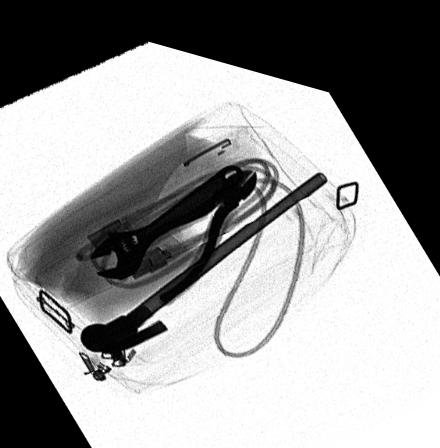Hammer: (81, 152, 329, 347)
Pliers: (107, 157, 258, 299)
Wrench: (89, 150, 244, 277)
